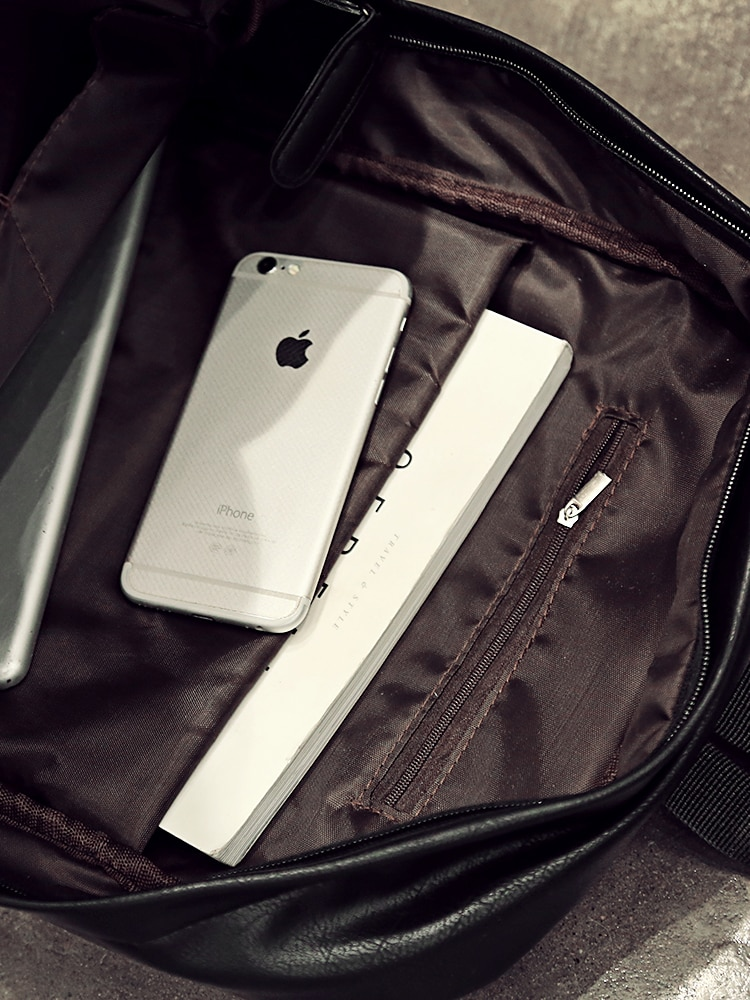Men's Backpacks: (1, 1, 750, 1000)
Mobiles&Acc|Mobile Phone: (121, 251, 412, 637)
